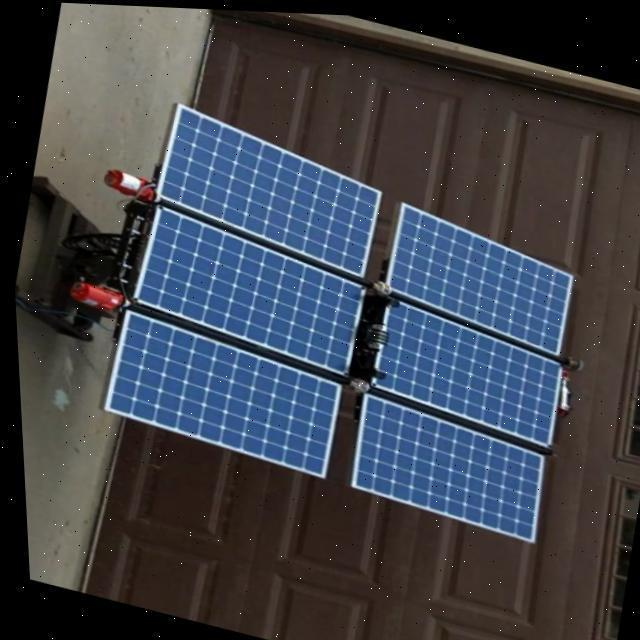Normal Solar Panel: (124, 200, 368, 370), (94, 307, 342, 473), (147, 100, 386, 270), (338, 389, 550, 536), (374, 196, 578, 348), (363, 293, 568, 440)
